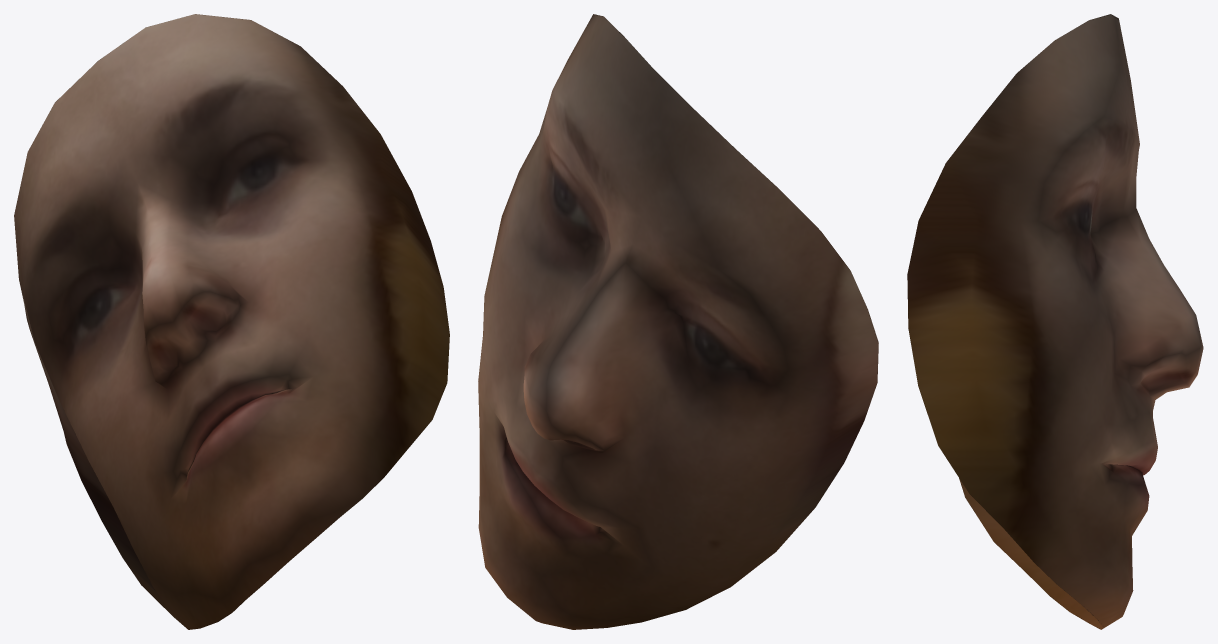
3 views of the same model, side by side, from view 1: azimuth 30°, elevation 25°; view 2: azimuth 150°, elevation 25°; view 3: azimuth 270°, elevation 25° (orthographic). The views are drawn at different scales.
Visible parts, largest first — view 1: custom; view 2: custom; view 3: custom.
Boxes of the visible parts, x1=… form: custom: x1=14, y1=14, x2=449, y2=629; custom: x1=478, y1=14, x2=878, y2=629; custom: x1=907, y1=14, x2=1203, y2=629.
Size of the model in its own units: 5.02 by 7.64 by 3.54.
Materials: 1 (1 with a texture image).
